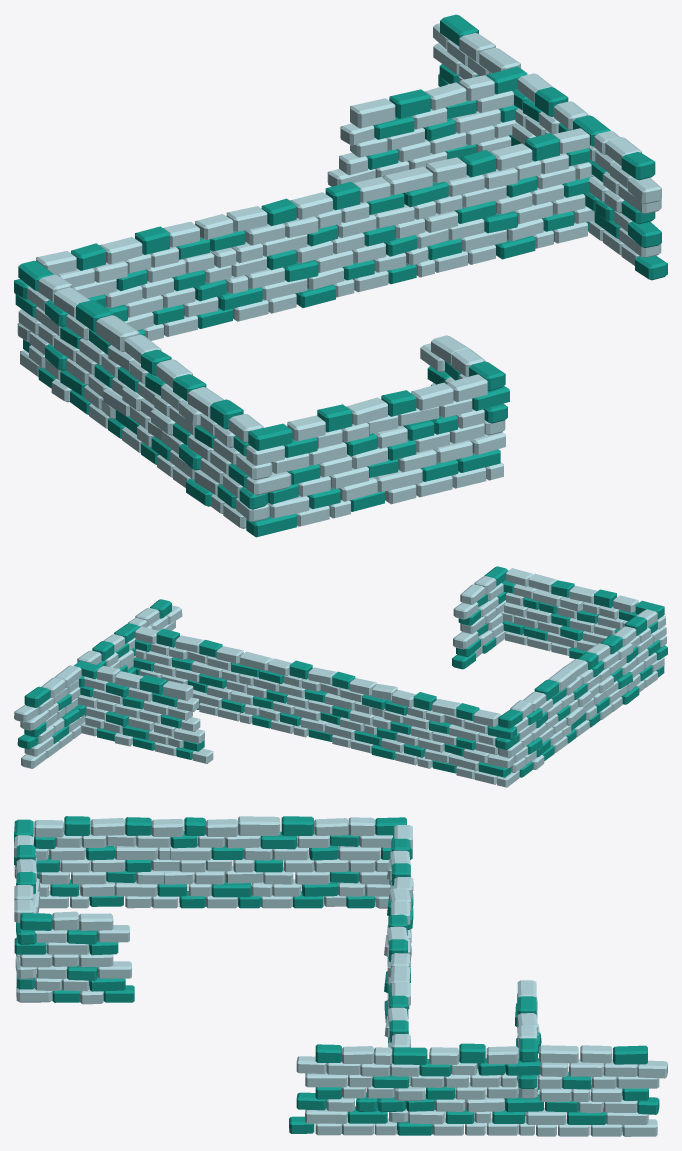
File: SM_Wall06.fbx
3 renders of one model, top to bottom at view 1: azimuth 30°, elevation 25°; view 2: azimuth 150°, elevation 25°; view 3: azimuth 270°, elevation 25°, orthographic. The views are drawn at different scales.
Visible parts, largest first — view 1: Wall08; view 2: Wall08; view 3: Wall08.
Boxes of the visible parts, x1=… form: Wall08: x1=14, y1=14, x2=667, y2=537; Wall08: x1=14, y1=566, x2=667, y2=787; Wall08: x1=14, y1=816, x2=667, y2=1136.
Size of the model in its own units: 1813 by 306 by 2081.
